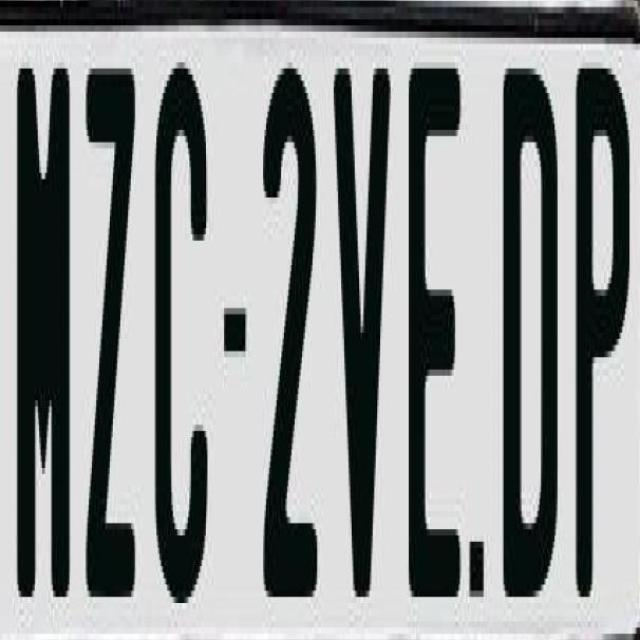license-plate: (8, 12, 624, 640)
